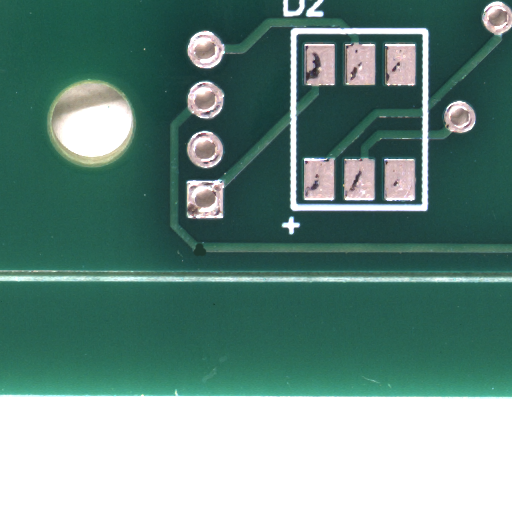Mouse_bite: (199, 249, 212, 262)
